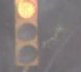Red: (12, 1, 40, 70)
